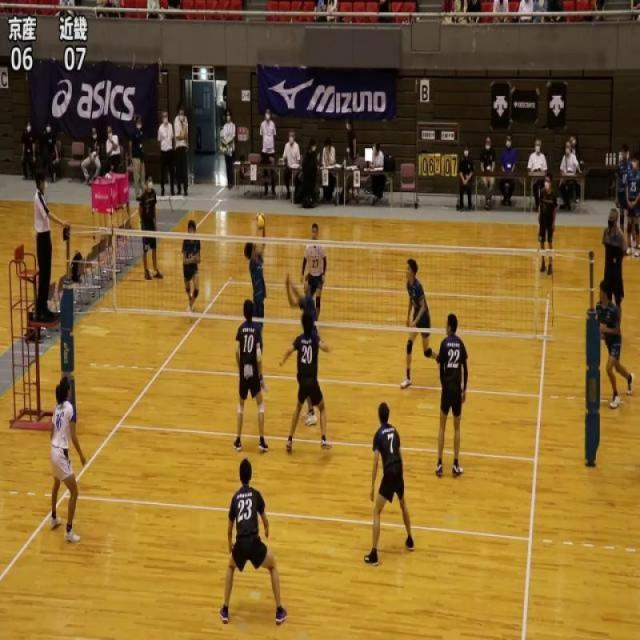volleyball: (255, 212, 266, 230)
